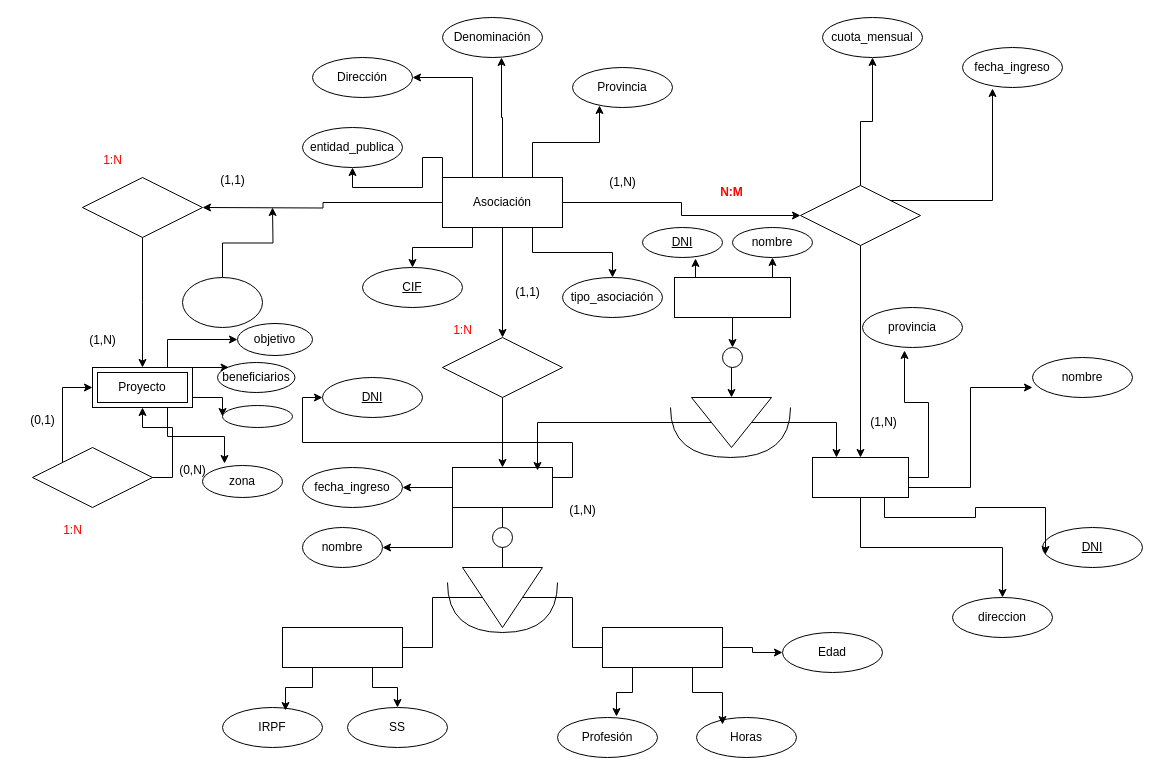
This 1160x775 diagram has some shape labels left out. The shapes that lost their labels are listed below. From the top down, each one's centre as x and y in pixels, then its label:
At point (142, 207): "lleva".
At point (860, 215): "formada".
At point (222, 302): "código".
At point (732, 297): "participante".
At point (502, 367): "trabaja".
At point (257, 416): "pais".
At point (92, 477): "esta compuesto".
At point (502, 487): "trabajadores".
At point (860, 477): "Socios".
At point (342, 647): "Asalariados".
At point (662, 647): "Voluntario".
